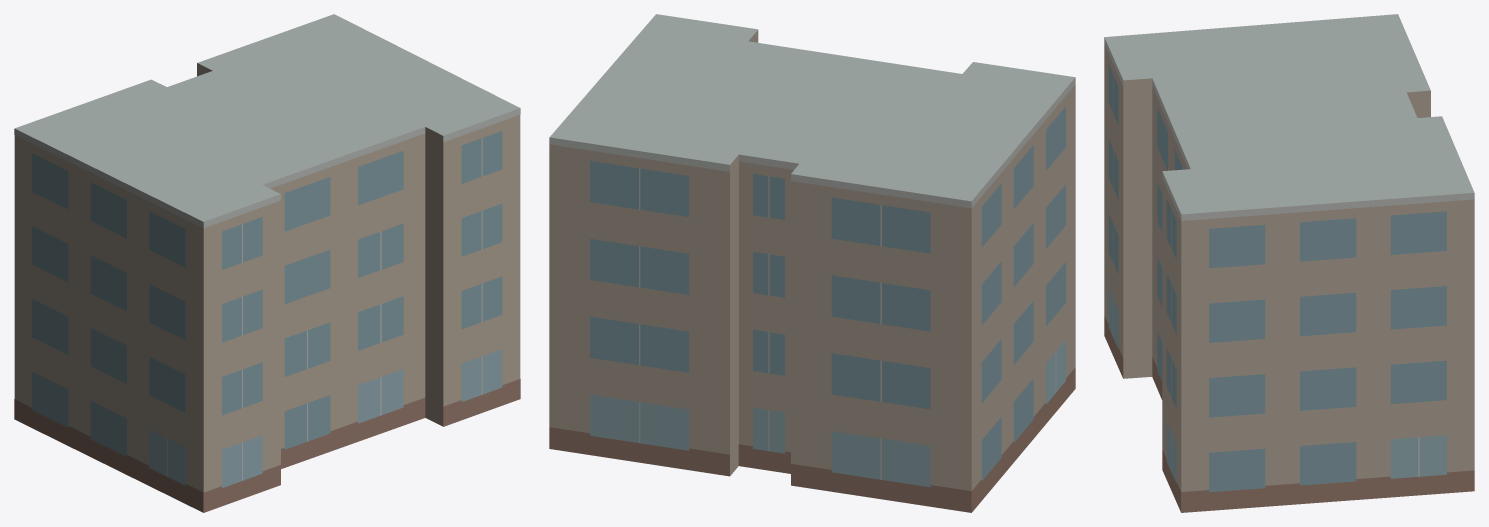
File: survey-upis-32711807.glb
The picture shows the model from 3 angles, left to right: view 1: azimuth 30°, elevation 25°; view 2: azimuth 150°, elevation 25°; view 3: azimuth 270°, elevation 25°; orthographic projection. The views are drawn at different scales.
Visible parts, largest first — view 1: survey-upis-32711807.tmp; view 2: survey-upis-32711807.tmp; view 3: survey-upis-32711807.tmp.
Boxes of the visible parts, <box> form: survey-upis-32711807.tmp: <box>14,14,520,512</box>; survey-upis-32711807.tmp: <box>549,14,1075,512</box>; survey-upis-32711807.tmp: <box>1104,14,1474,512</box>.
Size of the model in its own units: 15.85 by 11 by 12.38.
